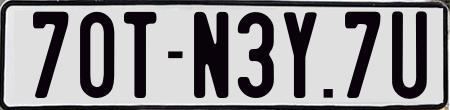0: (80, 11, 118, 101)
3: (238, 12, 276, 99)
7: (32, 11, 72, 98), (342, 9, 378, 99)
N: (193, 11, 230, 100)
T: (122, 9, 154, 99)
U: (389, 8, 427, 99)
Y: (281, 10, 314, 99)
